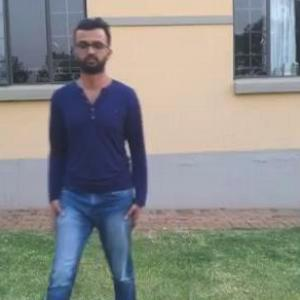follow: (43, 18, 143, 299)
